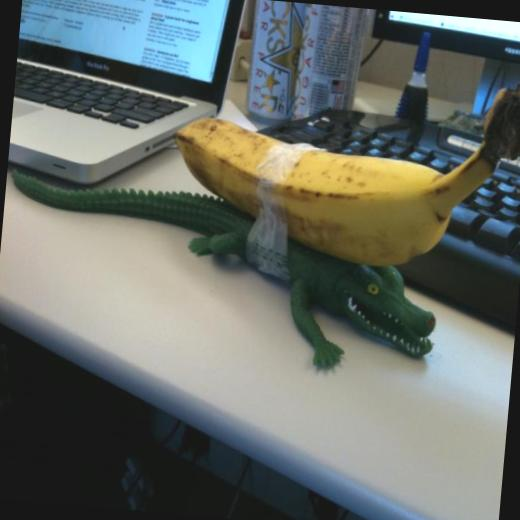Banana: (163, 50, 520, 278)
